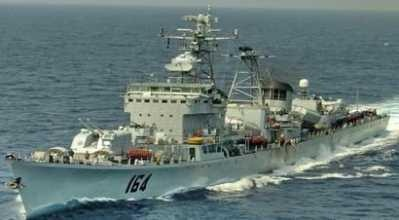warship: (6, 11, 393, 213)
